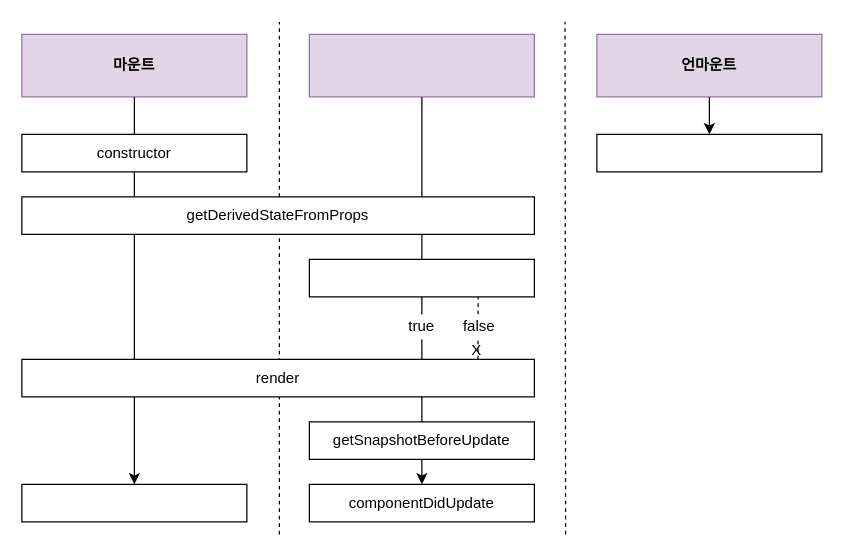
Some shapes in this 844 by 558 pixel diagram are drawn without their labels. Here are the shapes that lost their labels. From the top down, the centre of each, then its label:
At [421,65]: "업데이트".
At [709,152]: "componentWillUnmount".
At [421,277]: "shouldComponentUpdate".
At [134,502]: "componentDidMount".
